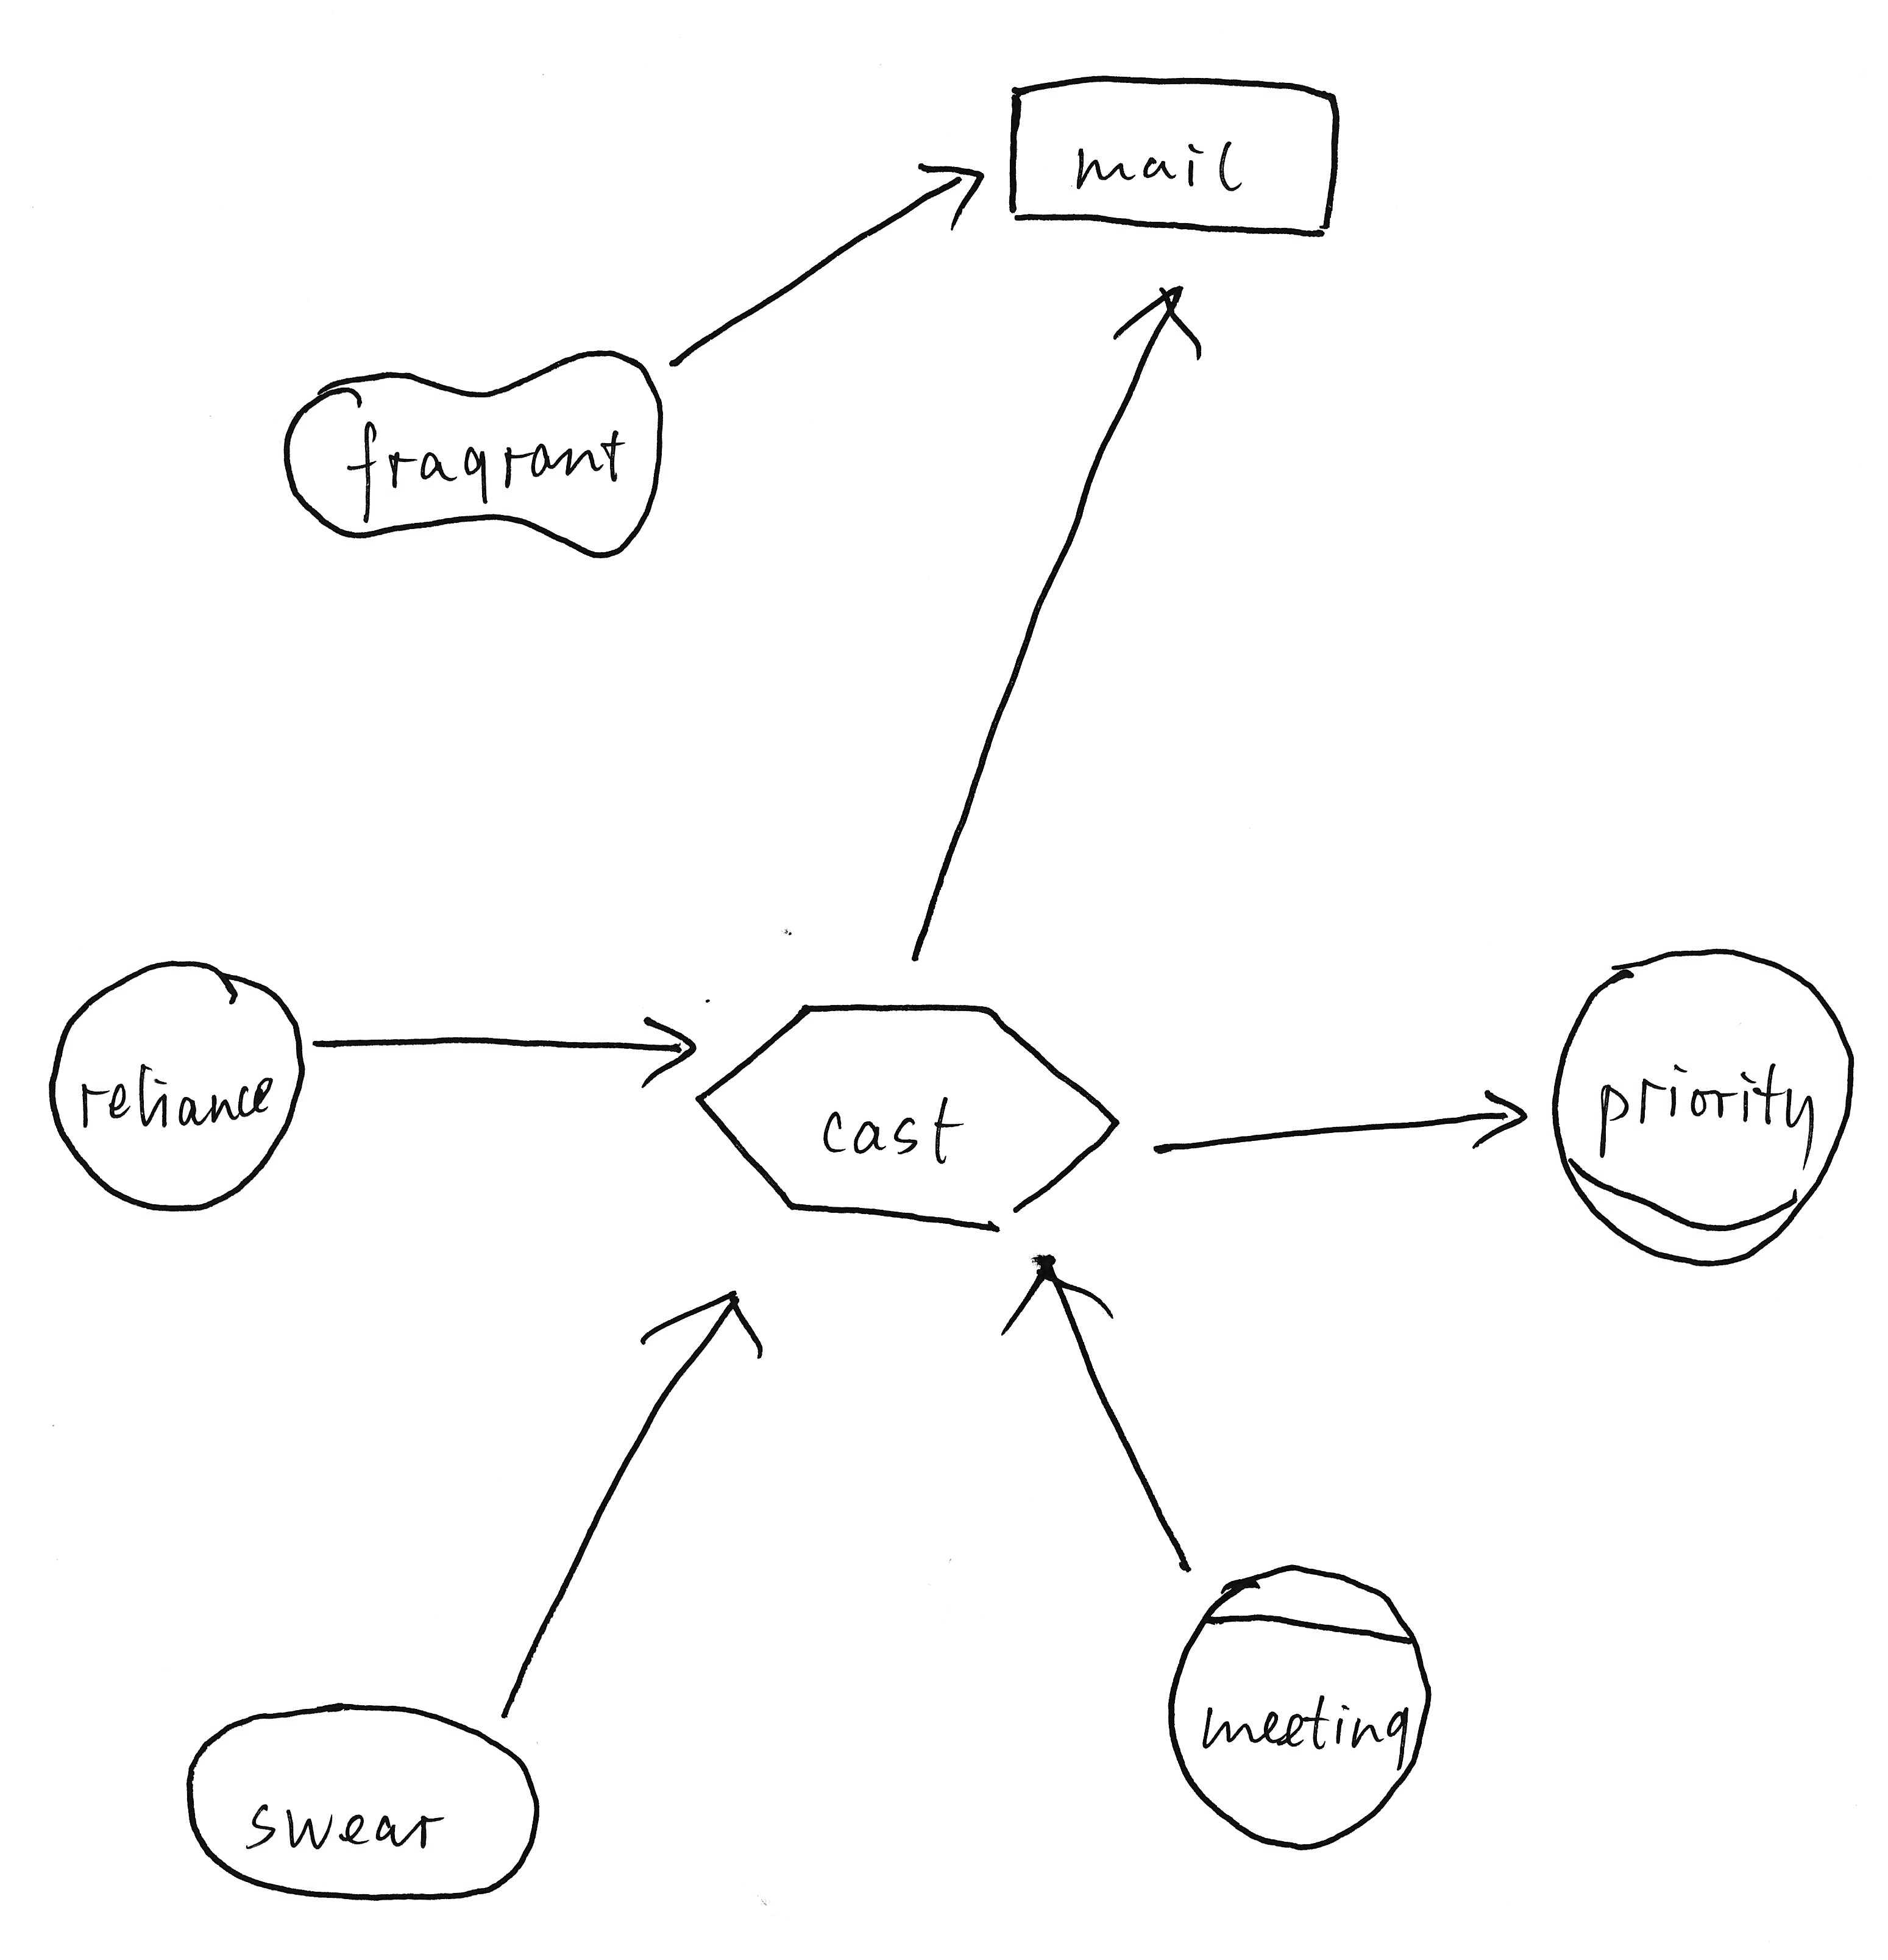actor: (26, 945, 317, 1225)
agent: (1150, 1554, 1452, 1860)
arrow: (621, 1279, 789, 1382), (987, 1244, 1125, 1346), (1099, 269, 1218, 369), (898, 138, 990, 250), (1456, 1064, 1533, 1167), (630, 992, 702, 1099)
goal: (166, 1682, 555, 1916)
quality: (269, 327, 679, 583)
resource: (990, 45, 1365, 262)
role: (1536, 933, 1872, 1284)
task: (677, 989, 1132, 1249)
